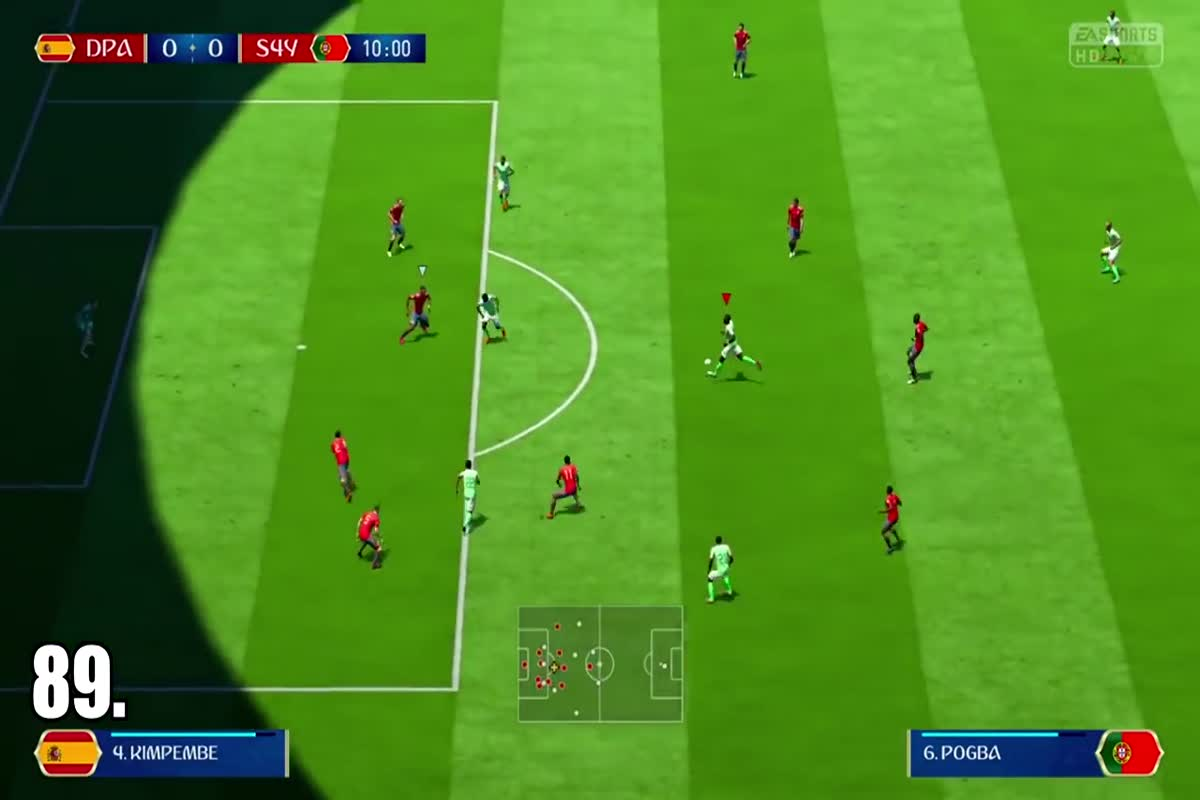ball: (694, 350, 717, 371)
